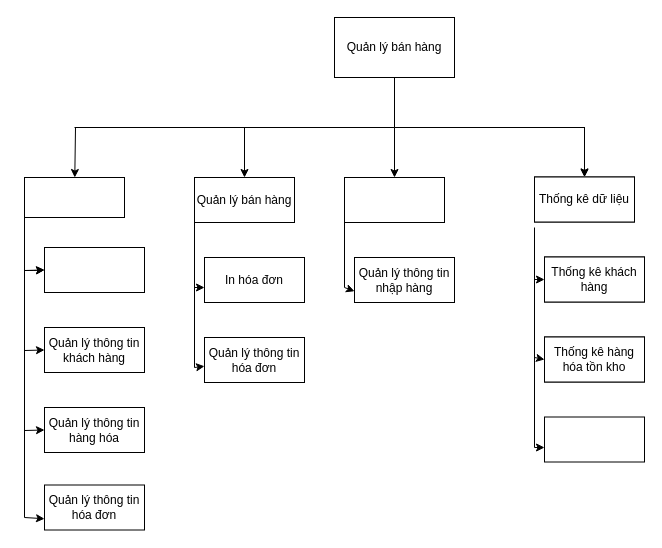
The diagram is 662 pixels wide and 548 high, and some of its shapes have lost their labels. The shapes that lost their labels are listed below. From the top down, each one's box as (x1, y1, x2, y2) in pixels, then its label:
(24, 176, 124, 218): Quản lý thông tin
(344, 176, 444, 222): Quản lý nhập hàng
(44, 246, 144, 292): Quản lý thông tin nhân viên
(544, 416, 644, 462): Thống kê hóa đơn
